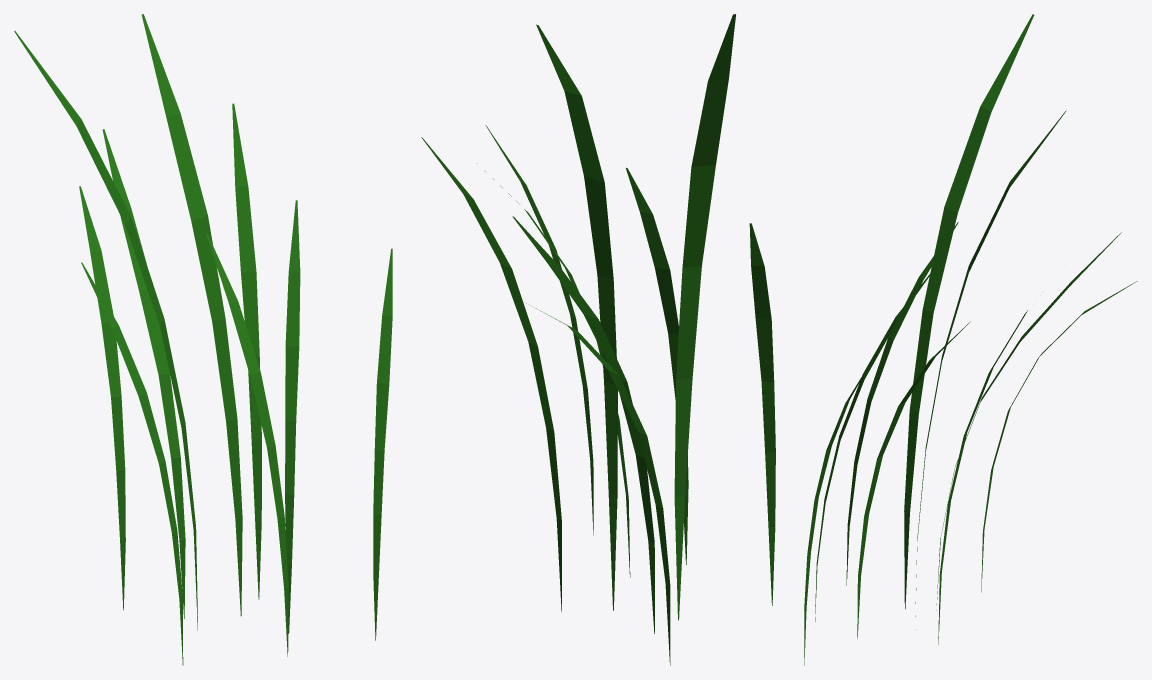
File: Grass2_Low.fbx
3 renders of one model, left to right at view 1: azimuth 30°, elevation 25°; view 2: azimuth 150°, elevation 25°; view 3: azimuth 270°, elevation 25°, orthographic. The views are drawn at different scales.
Parts seen in each view (by area): view 1: Plane; view 2: Plane; view 3: Plane.
Boxes of the visible parts, box(x1,y1,x2,y2) form: Plane: box(14, 14, 392, 665); Plane: box(421, 14, 775, 665); Plane: box(804, 14, 1137, 665).
Size of the model in its own units: 0.5512 by 1.04 by 0.5802.
